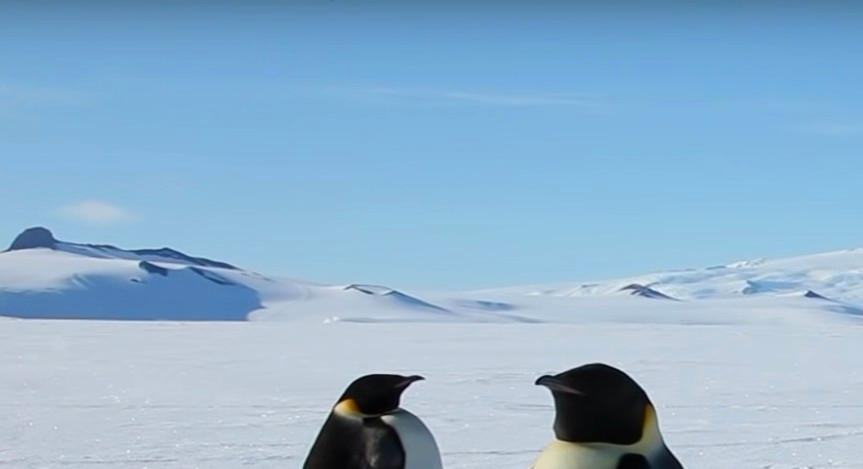Emperor Penguin: (473, 352, 766, 469), (288, 355, 454, 469)
